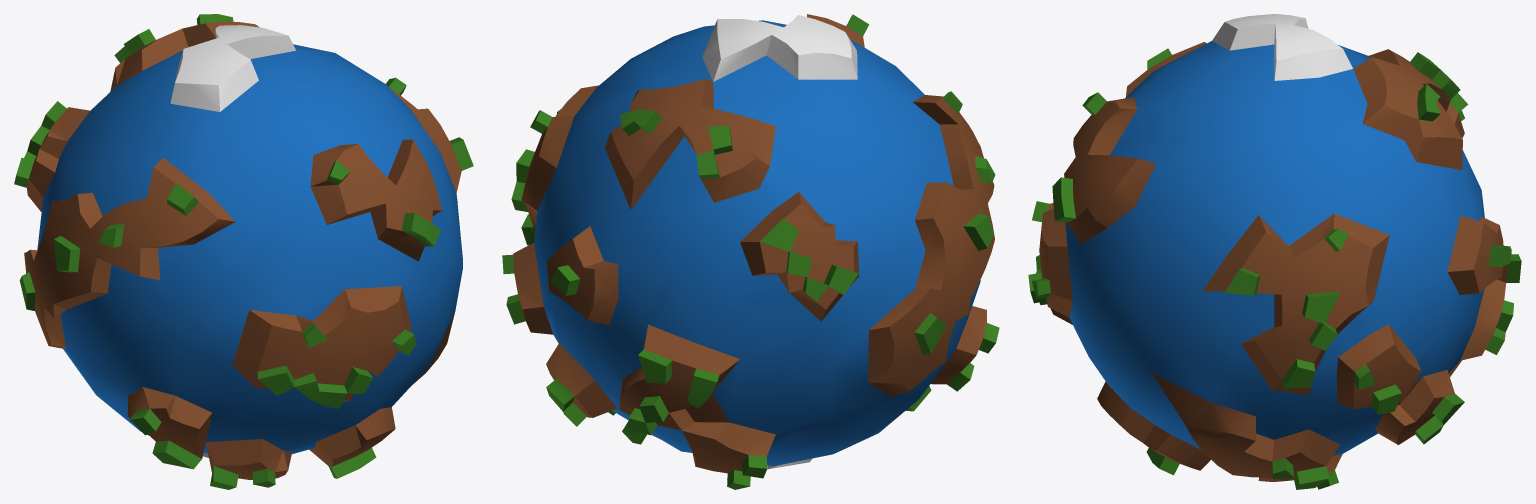
Rendered from planet-10.glb.
3 views of the same model, side by side, from view 1: azimuth 30°, elevation 25°; view 2: azimuth 150°, elevation 25°; view 3: azimuth 270°, elevation 25° (orthographic). The views are drawn at different scales.
Visible parts, largest first — view 1: Toy_Planet_1_Toy_Planets_0; view 2: Toy_Planet_1_Toy_Planets_0; view 3: Toy_Planet_1_Toy_Planets_0.
Part boxes in pixels (x1,y1,x2,y2): Toy_Planet_1_Toy_Planets_0: [14, 14, 473, 489]; Toy_Planet_1_Toy_Planets_0: [502, 14, 999, 489]; Toy_Planet_1_Toy_Planets_0: [1028, 14, 1521, 489].
Size of the model in its own units: 2.09 by 2.01 by 2.13.
1 material, 1 textured.
